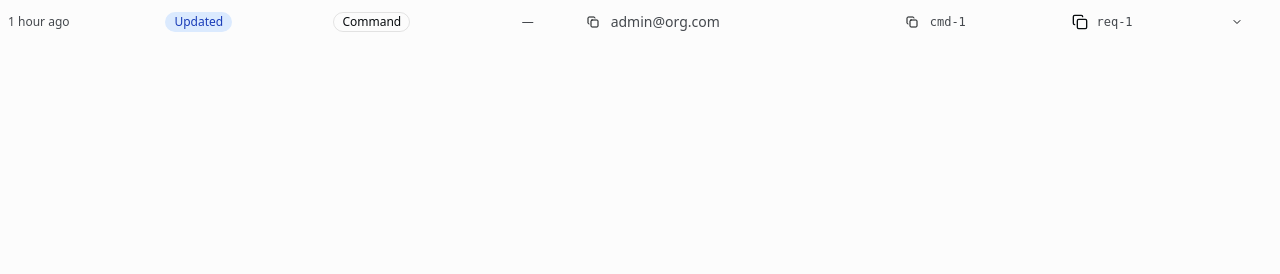
AuditLogRow › should show before/after labels when both exist
Click the button. click: coordinates (640, 22)
box: [0,0,1279,44]
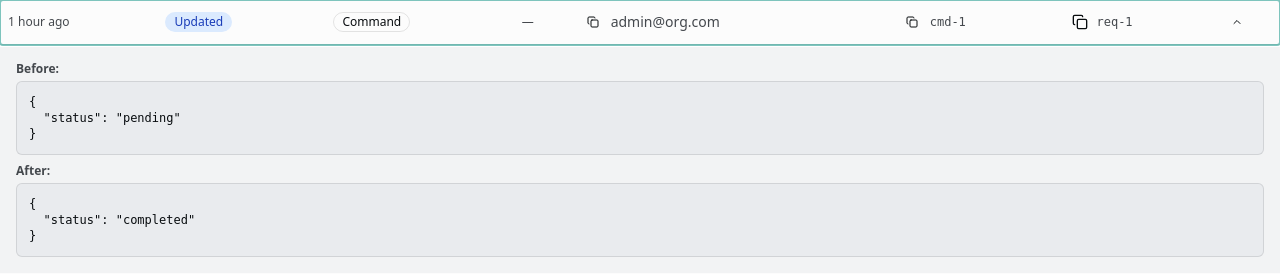
Check: the text "Before:" is shown, box [16,60,59,77]
Check: the text "After:" is shown, box [16,162,50,179]
